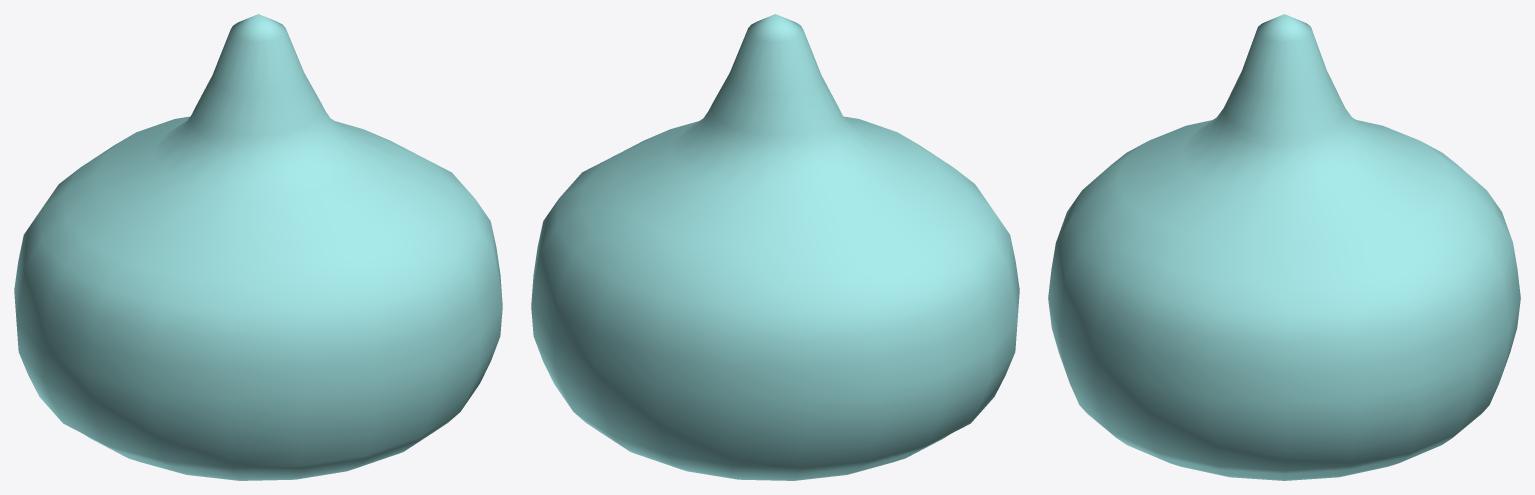
File: sura.fbx
3 views of the same model, side by side, from view 1: azimuth 30°, elevation 25°; view 2: azimuth 150°, elevation 25°; view 3: azimuth 270°, elevation 25° (orthographic).
Parts seen in each view (by area): view 1: pSphere1; view 2: pSphere1; view 3: pSphere1.
Part boxes in pixels (left/top/right/bottom): pSphere1: left=14, top=14, right=502, bottom=480; pSphere1: left=531, top=14, right=1019, bottom=480; pSphere1: left=1048, top=14, right=1520, bottom=480.
Size of the model in its own units: 4.43 by 4.13 by 4.2.
